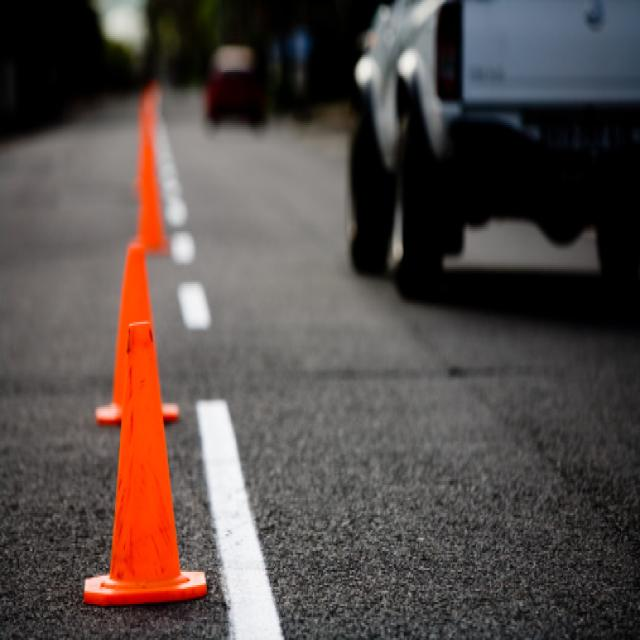cone: (86, 321, 208, 609), (96, 242, 179, 426), (131, 156, 170, 255)
